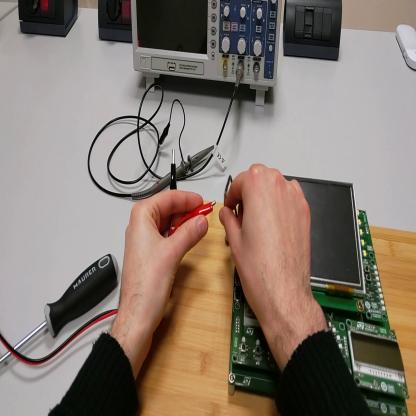hand: (221, 162, 315, 324), (119, 186, 211, 333)
low voltage board: (225, 175, 410, 416)
oscilloscope: (135, 3, 284, 106)
oscilloscope probe tip: (133, 145, 217, 197)
screwdriver-: (2, 249, 120, 365)
socket: (18, 1, 81, 39), (97, 3, 133, 45)
working area: (134, 190, 416, 415)
